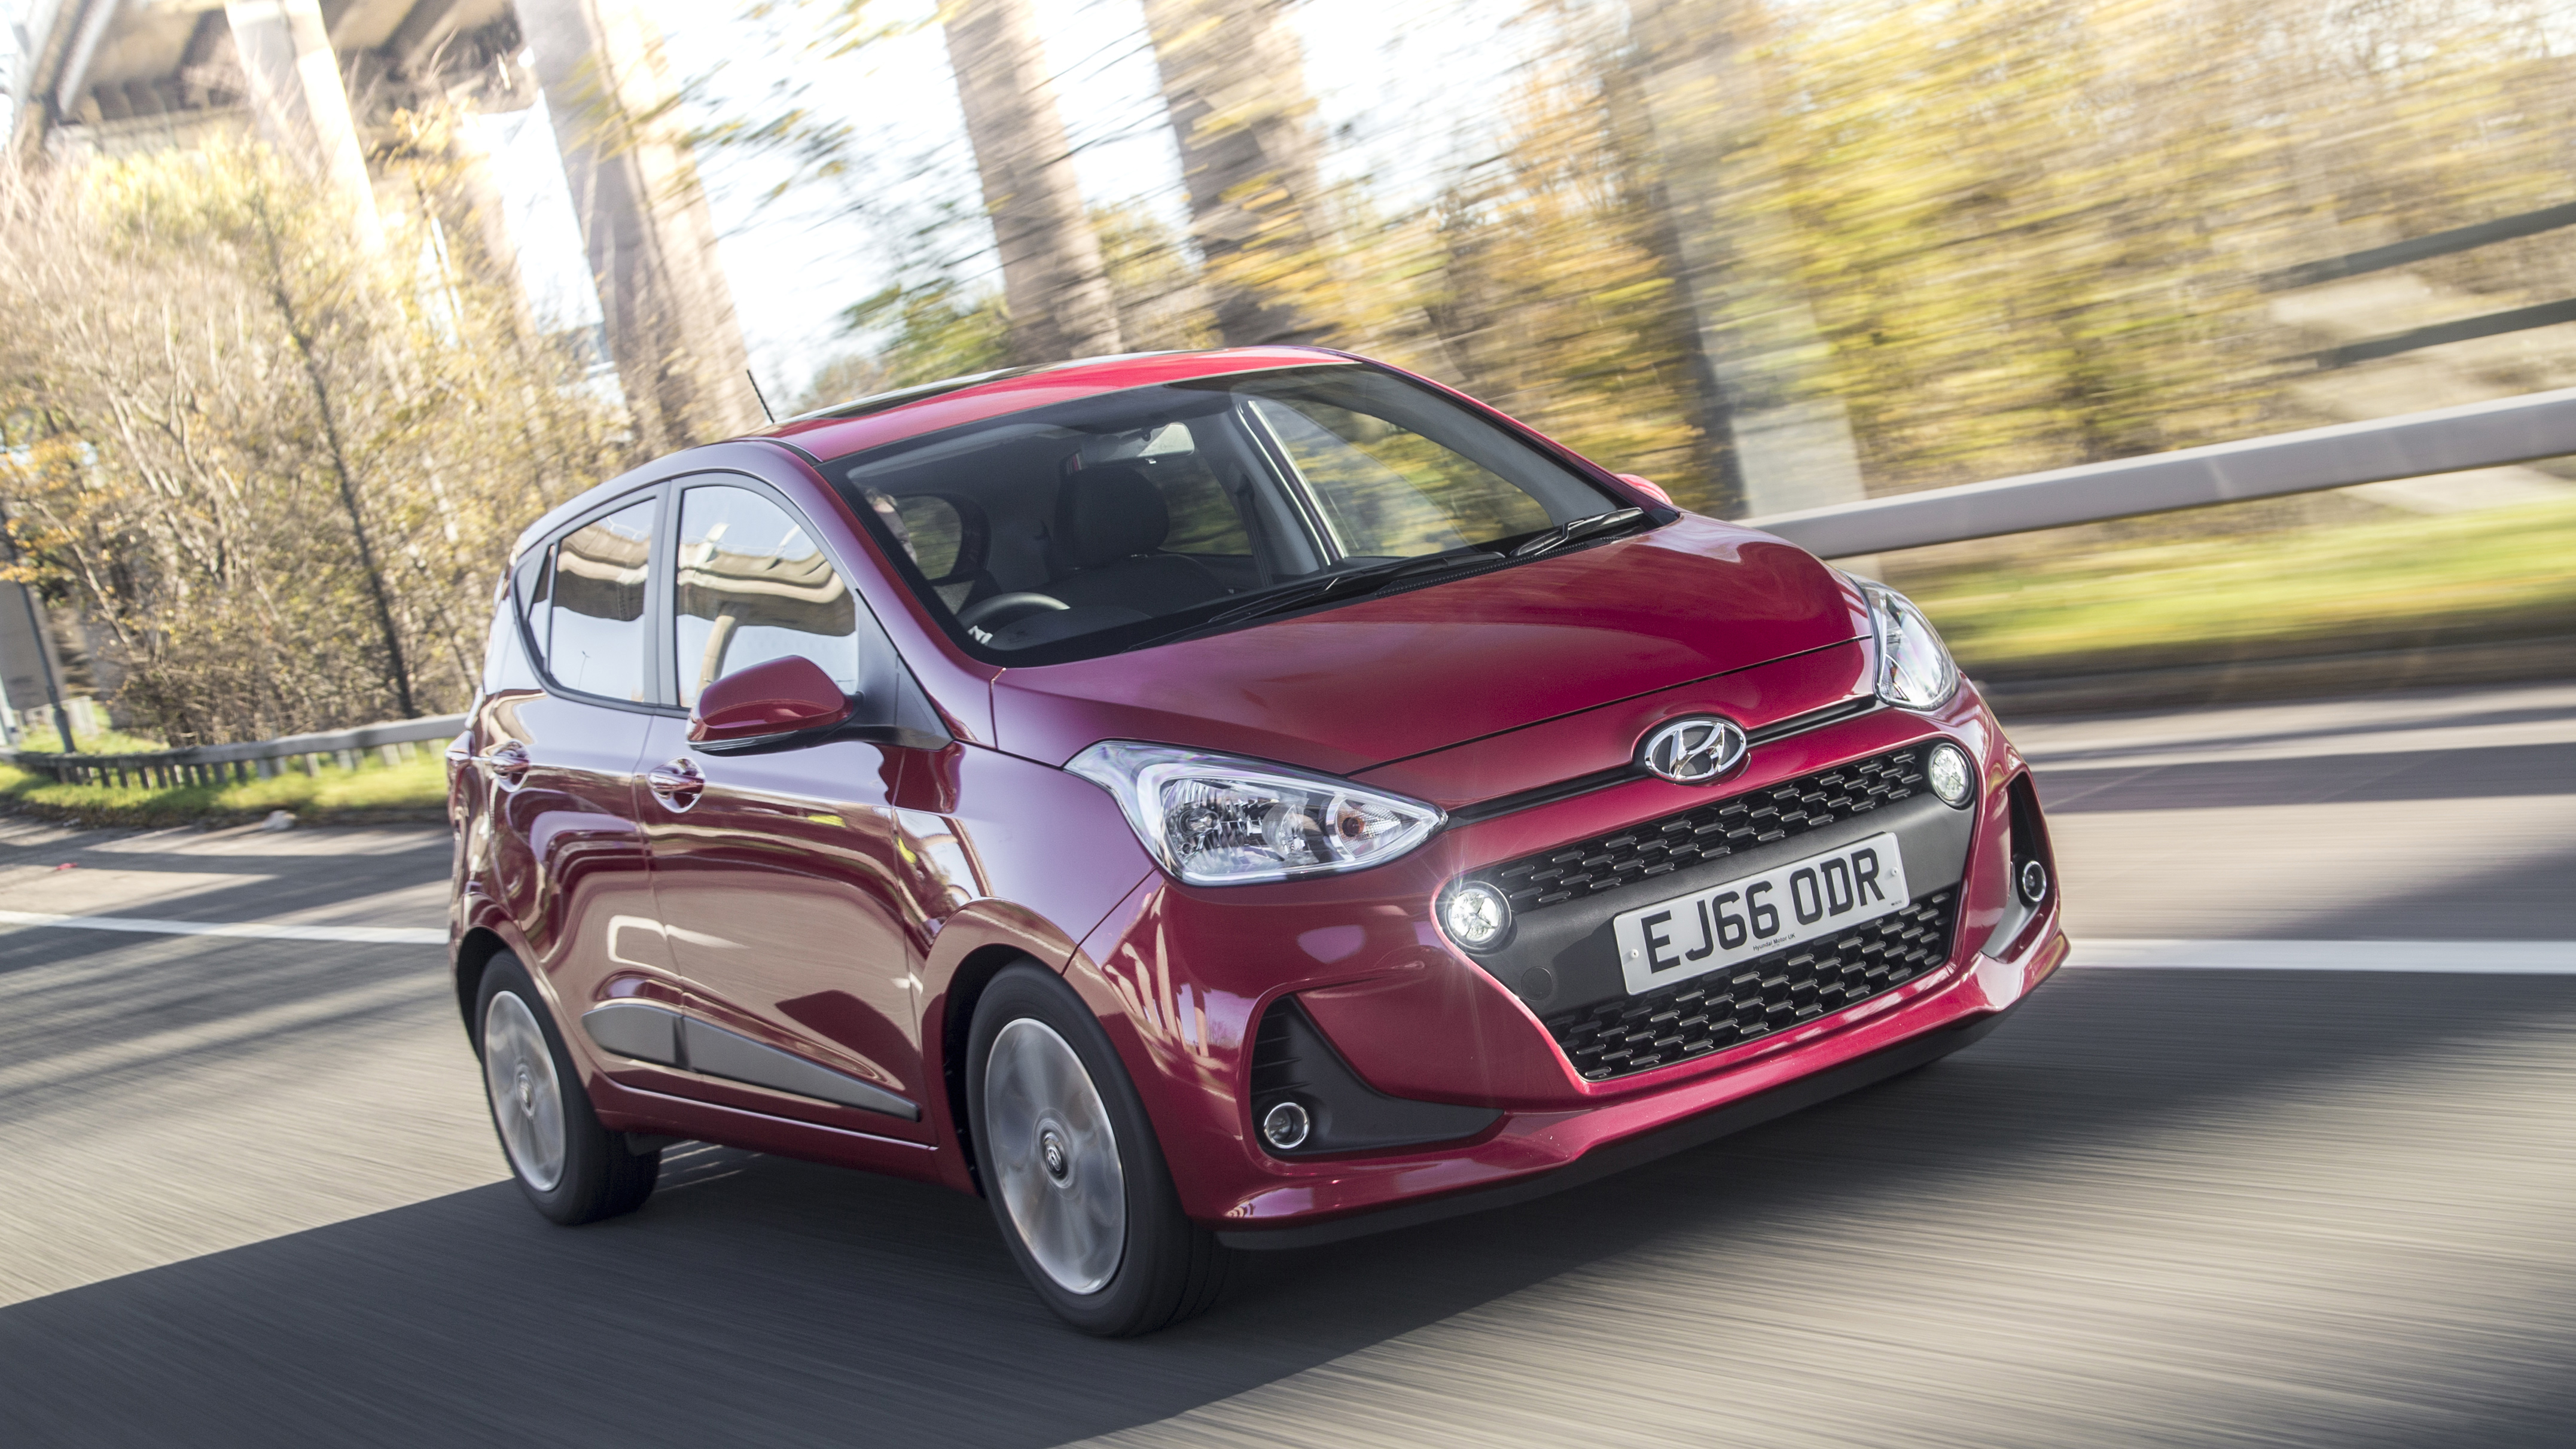Carro: (435, 338, 2081, 1341)
